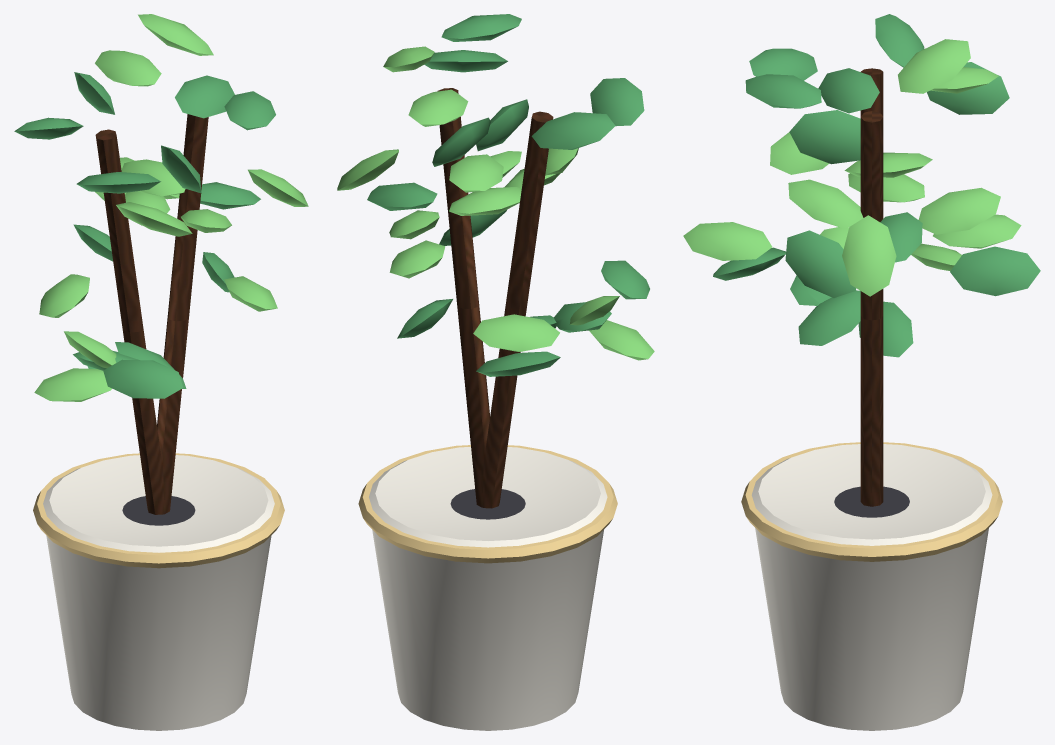
Rendered from kr_plant.glb.
3 renders of one model, left to right at view 1: azimuth 30°, elevation 25°; view 2: azimuth 150°, elevation 25°; view 3: azimuth 270°, elevation 25°, orthographic. The views are drawn at different scales.
Visible parts, largest first — view 1: vc_m0_r4, vc_m0_r6, kr_plant_darkwood, vc_m8_r2; view 2: vc_m0_r4, vc_m0_r6, kr_plant_darkwood, vc_m8_r2; view 3: vc_m0_r4, vc_m0_r6, kr_plant_darkwood, vc_m8_r2.
Part boxes in pixels (x1,y1,x2,y2): vc_m0_r4: (43, 455, 274, 730); vc_m0_r6: (14, 14, 308, 401); kr_plant_darkwood: (95, 114, 208, 514); vc_m8_r2: (33, 453, 284, 568); vc_m0_r4: (369, 446, 607, 730); vc_m0_r6: (337, 14, 654, 376); kr_plant_darkwood: (437, 88, 553, 508); vc_m8_r2: (358, 445, 617, 563); vc_m0_r4: (751, 444, 992, 730); vc_m0_r6: (683, 14, 1040, 357); kr_plant_darkwood: (860, 68, 883, 506); vc_m8_r2: (741, 442, 1002, 561).
Size of the model in its own units: 1.21 by 2.59 by 1.26.
4 materials, 1 textured.
